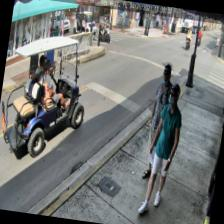person: (138, 80, 186, 218), (140, 62, 178, 180)
